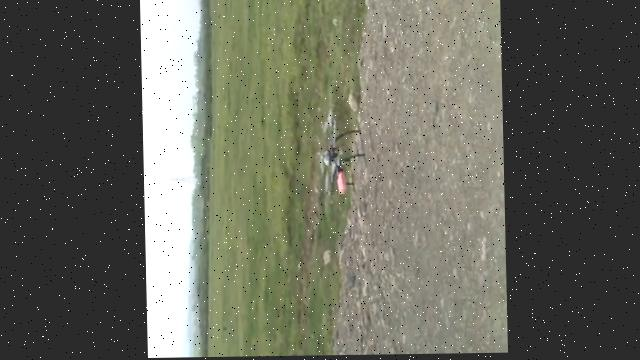drone: (317, 109, 365, 199)
